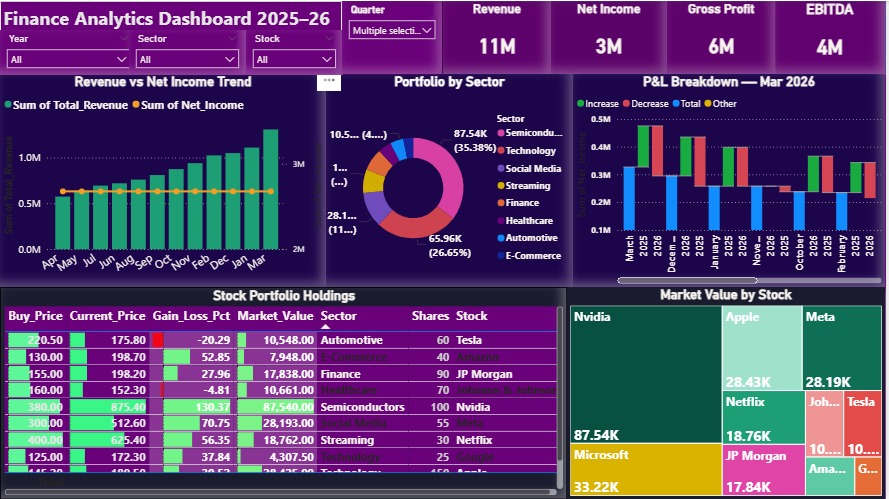

The page's visual inventory and layout, read from the dashboard file:
{"tool":"powerbi","page":{"name":"Page 1","canvas":[1280,720],"ordinal":0},"visuals":[{"type":"shape","box":[0,0,1280,105.8],"z":0},{"type":"card","title":"Gross Profit","fields":{"Values":["Sum(2_pl_breakdown.Gross_Profit)"]},"box":[963.9,0,157.2,105.8],"z":1000},{"type":"card","title":"Revenue","fields":{"Values":["Sum(2_pl_breakdown.Revenue)"]},"box":[640.5,0,156.1,105.5],"z":2000},{"type":"card","title":"Net Income","fields":{"Values":["Sum(2_pl_breakdown.Net_Income)"]},"box":[796.4,0,167.5,105.8],"z":3000},{"type":"card","title":"EBITDA","fields":{"Values":["Sum(2_pl_breakdown.EBITDA)"]},"box":[1121.1,0,158.7,105.8],"z":4000},{"type":"lineClusteredColumnComboChart","title":"Revenue vs Net Income Trend","fields":{"Y":["Sum(3_revenue_trends.Total_Revenue)"],"Category":["3_revenue_trends.Month"],"Y2":["Sum(2_pl_breakdown.Net_Income)"]},"box":[0,105.8,471.5,308.3],"z":4003},{"type":"donutChart","title":"Portfolio by Sector","fields":{"Category":["1_stock_portfolio.Sector"],"Y":["Sum(1_stock_portfolio.Market_Value)"]},"box":[471.7,106,357.2,307.6],"z":4004},{"type":"tableEx","title":"Stock Portfolio Holdings","fields":{"Values":["1_stock_portfolio.Buy_Price","1_stock_portfolio.Current_Price","1_stock_portfolio.Gain_Loss_Pct","1_stock_portfolio.Market_Value","1_stock_portfolio.Sector","1_stock_portfolio.Shares","1_stock_portfolio.Stock"]},"box":[0,413.5,819.8,306.5],"z":4005},{"type":"waterfallChart","title":"P&L Breakdown — Mar 2026","fields":{"Y":["Sum(2_pl_breakdown.Net_Income)"],"Breakdown":["2_pl_breakdown.Year"],"Category":["2_pl_breakdown.Month"]},"box":[828.4,105.5,451.1,308],"z":4006},{"type":"treemap","title":"Market Value by Stock","fields":{"Group":["1_stock_portfolio.Stock"],"Values":["Sum(1_stock_portfolio.Market_Value)"]},"box":[819.8,413.5,459.8,306.5],"z":4007},{"type":"textbox","box":[0,0,494.8,95],"z":4008},{"type":"slicer","fields":{"Values":["2_pl_breakdown.Year"]},"box":[0,41.2,199,64.5],"z":4009},{"type":"slicer","fields":{"Values":["1_stock_portfolio.Sector"]},"box":[186.4,41.2,168.5,64.5],"z":4010},{"type":"slicer","fields":{"Values":["1_stock_portfolio.Stock"]},"box":[355,41.2,139.8,64.5],"z":4011},{"type":"slicer","fields":{"Values":["Finance Analytics dataset.Date.Variation.Date Hierarchy.Quarter"]},"box":[494.8,0,145.2,105.8],"z":4012}]}

Visuals, with their boxes in screenshot pixels (x1, y1, x2, y2), scaled from the page's 1280x720 canvas onto the 889x499 screenshot:
shape: bbox=[0, 0, 888, 73]
"Gross Profit" card: bbox=[669, 0, 779, 73]
"Revenue" card: bbox=[445, 0, 553, 73]
"Net Income" card: bbox=[553, 0, 669, 73]
"EBITDA" card: bbox=[779, 0, 888, 73]
"Revenue vs Net Income Trend" lineClusteredColumnComboChart: bbox=[0, 73, 327, 287]
"Portfolio by Sector" donutChart: bbox=[328, 73, 576, 287]
"Stock Portfolio Holdings" tableEx: bbox=[0, 287, 569, 498]
"P&L Breakdown — Mar 2026" waterfallChart: bbox=[575, 73, 888, 287]
"Market Value by Stock" treemap: bbox=[569, 287, 888, 498]
textbox: bbox=[0, 0, 344, 66]
slicer - 2_pl_breakdown.Year: bbox=[0, 29, 138, 73]
slicer - 1_stock_portfolio.Sector: bbox=[129, 29, 246, 73]
slicer - 1_stock_portfolio.Stock: bbox=[247, 29, 344, 73]
slicer - Finance Analytics dataset.Date.Variation.Date Hierarchy.Quarter: bbox=[344, 0, 444, 73]
